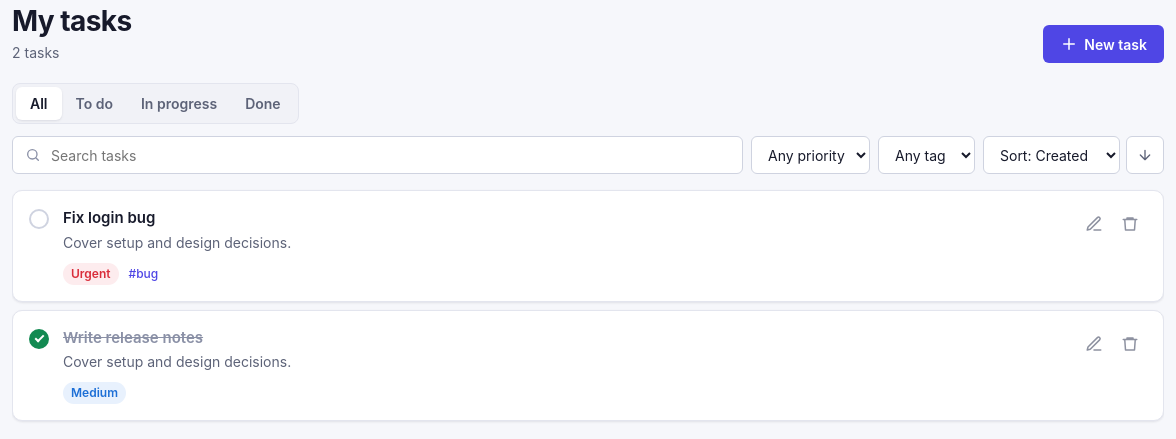
it: TasksPage › refetches with the new filter when a filter changes
The image size is (1176, 439).
Later steps or results of the test are not shown.
Expected: the heading "Fix login bug" is shown, [63, 208, 155, 227]
What coordinates should you click on to do the following:
click the tab "Done"
I would click on:
 (263, 104)
Its box is [231, 87, 295, 120].
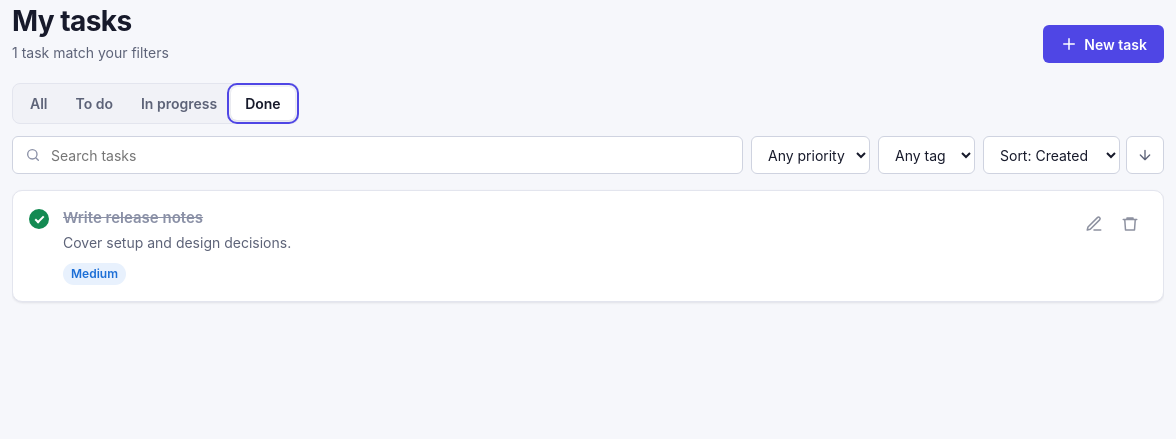
Expected: the text "1 task match your filters" is shown, [12, 42, 169, 63]
Expected: the heading "Fix login bug" is gone
